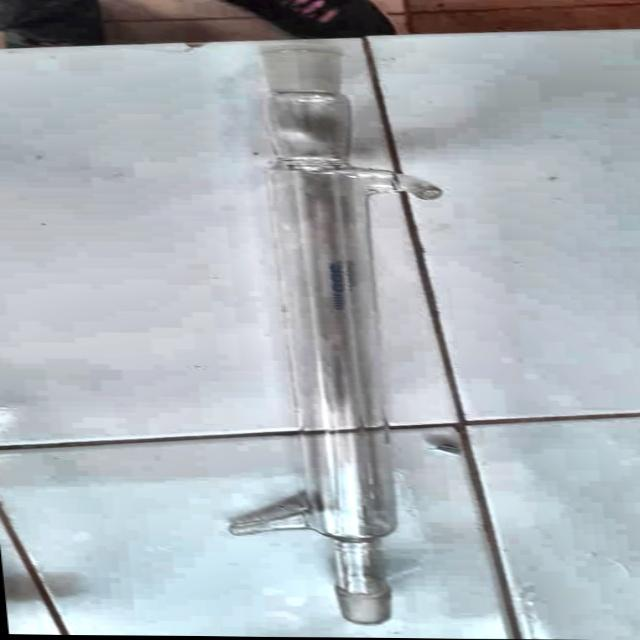Distillation: (157, 33, 510, 628)
